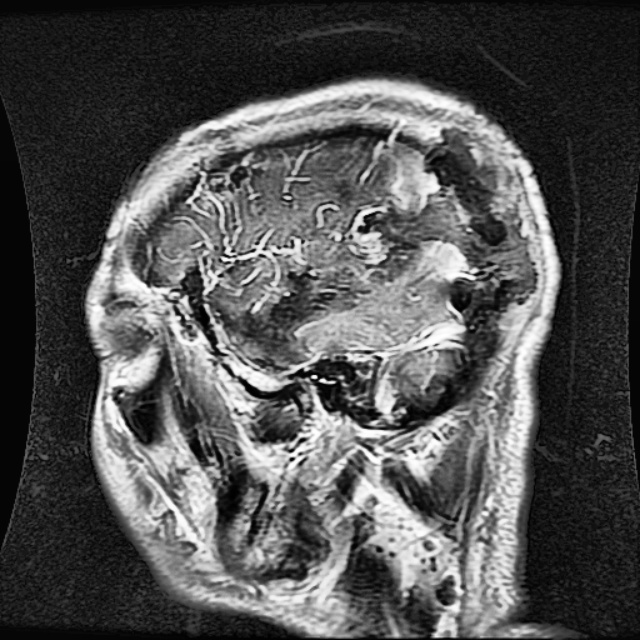Meningioma: (359, 133, 525, 278)
